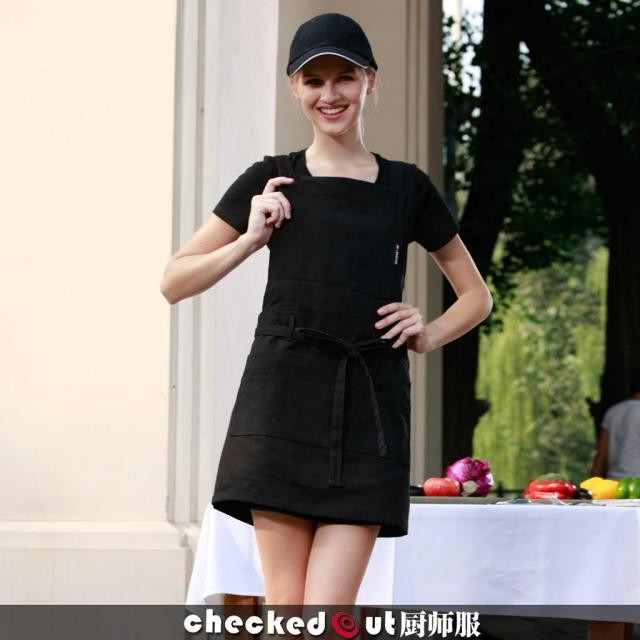nomask: (297, 49, 365, 135)
